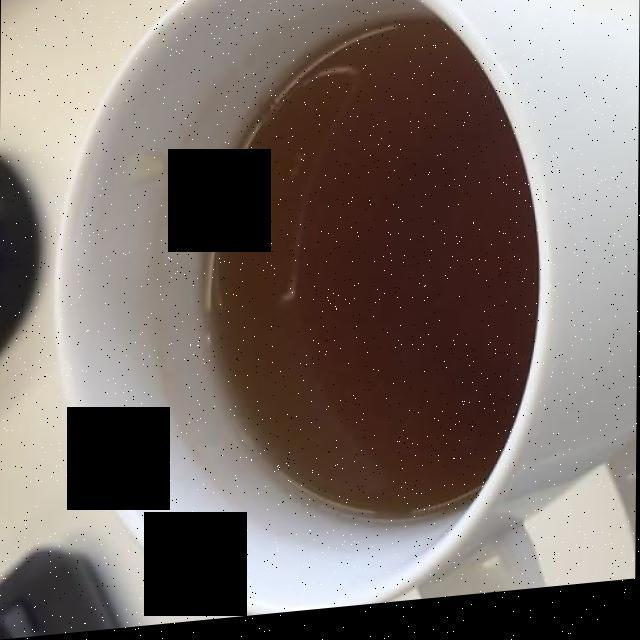drink: (191, 37, 530, 530)
